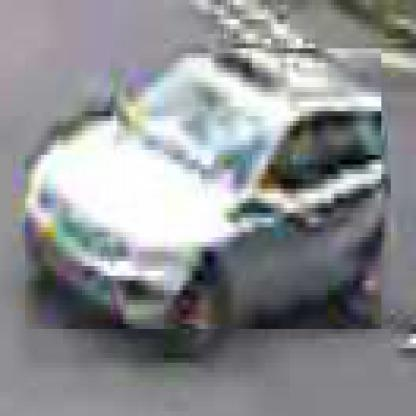car: (23, 49, 382, 335)
